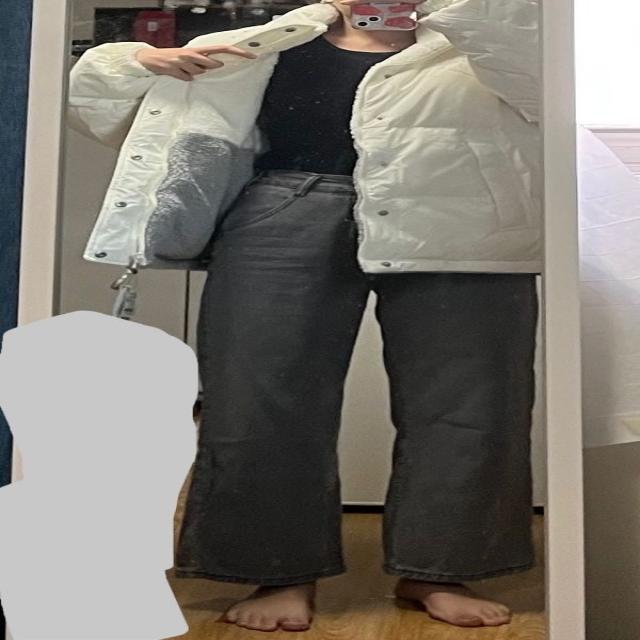denimpants: (183, 168, 540, 580)
padding: (68, 0, 537, 274)
